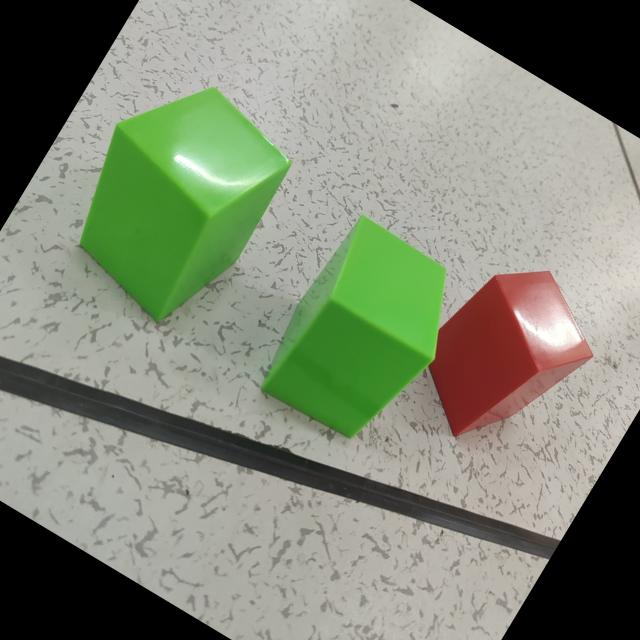green: (76, 88, 290, 323), (260, 216, 445, 441)
red: (426, 273, 593, 438)
